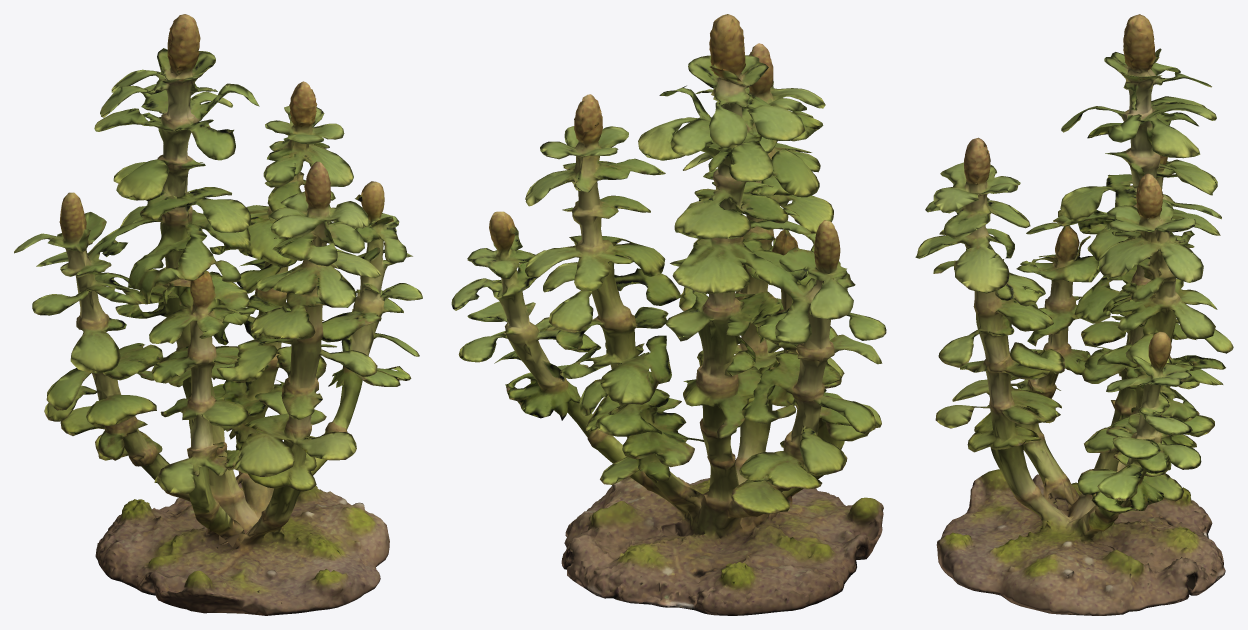
3 views of the same model, side by side, from view 1: azimuth 30°, elevation 25°; view 2: azimuth 150°, elevation 25°; view 3: azimuth 270°, elevation 25° (orthographic). The views are drawn at different scales.
Parts seen in each view (by area): view 1: world; view 2: world; view 3: world.
Boxes of the visible parts, box(x1,y1,x2,y2) form: world: box(14, 14, 422, 615); world: box(451, 14, 886, 615); world: box(915, 14, 1233, 615).
Bounding box in the file's own units: 0.344 × 0.45 × 0.2483.
Materials: 1 (1 with a texture image).
